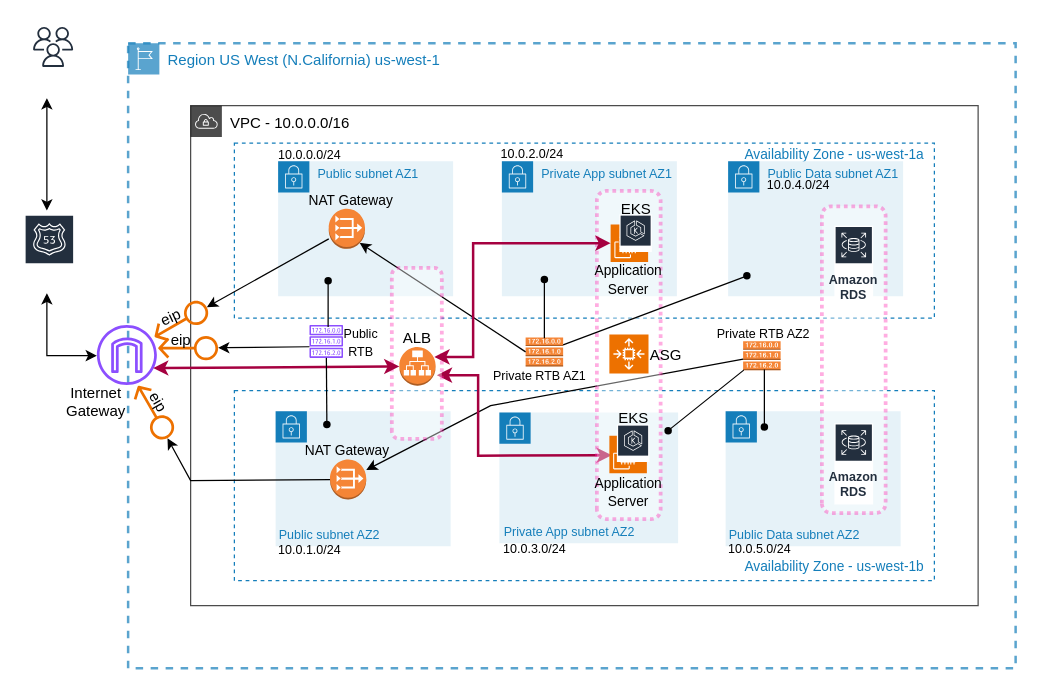
The diagram is 1039 pixels wide and 691 high, and some of its shapes have lost their labels. The shapes that lost their labels are listed below. From the top down, each one's centre as x and y in pixels, then its label:
the point at 52,46: End Users
the point at 48,263: Amazon Route 53
